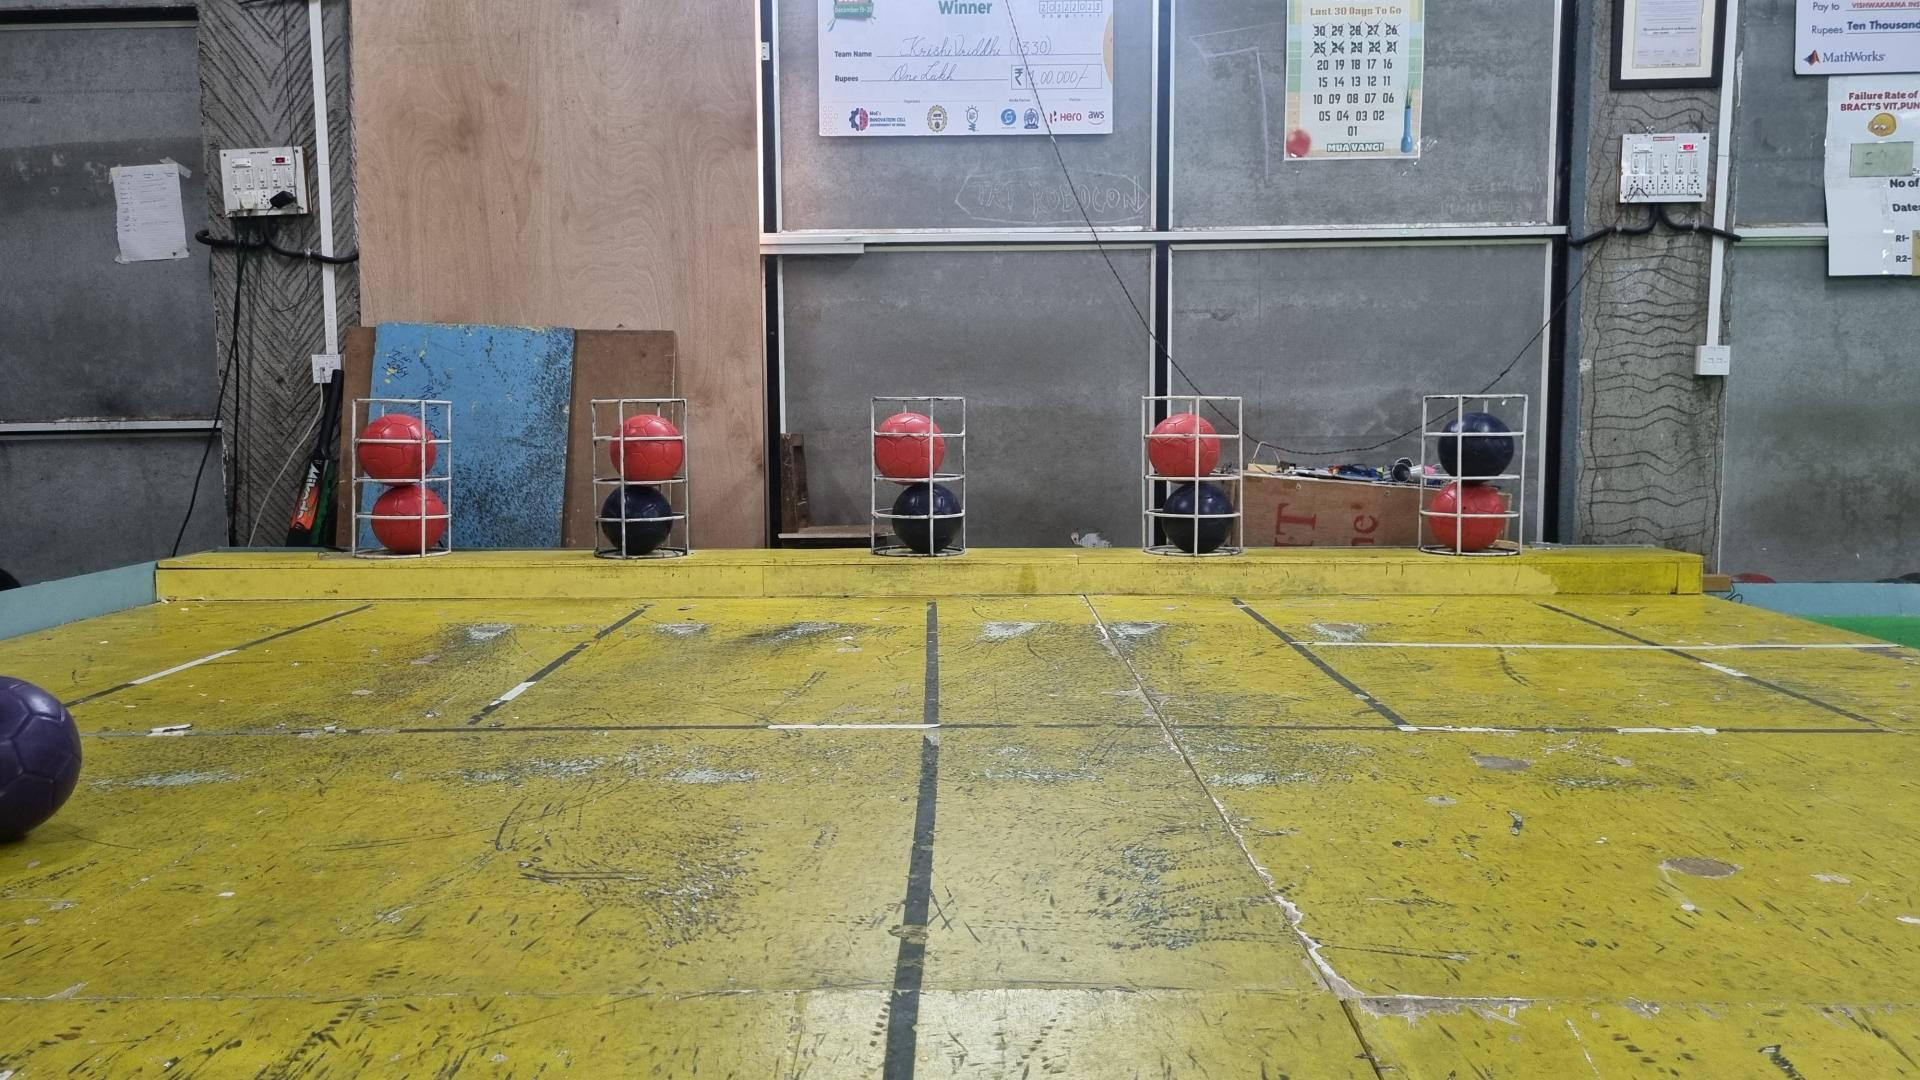dhoka: (600, 487, 675, 555), (1163, 484, 1234, 555), (893, 484, 964, 555), (1436, 413, 1515, 476)
laale: (356, 413, 439, 480), (1428, 484, 1507, 551), (372, 484, 446, 555), (612, 415, 683, 484), (1147, 413, 1218, 480), (874, 413, 945, 480)
